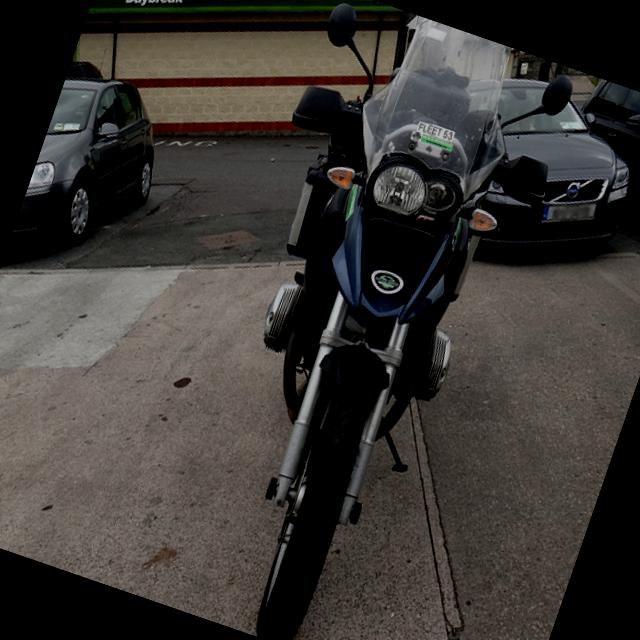Vehicle: (117, 0, 590, 640), (446, 67, 640, 289), (9, 60, 181, 278), (547, 75, 640, 249)
